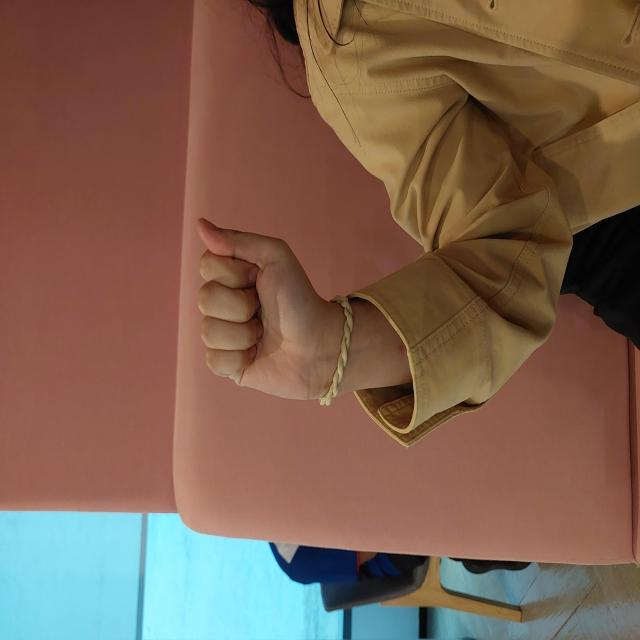A: (235, 190, 430, 334)
